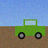vehicle: (15, 20, 45, 39)
